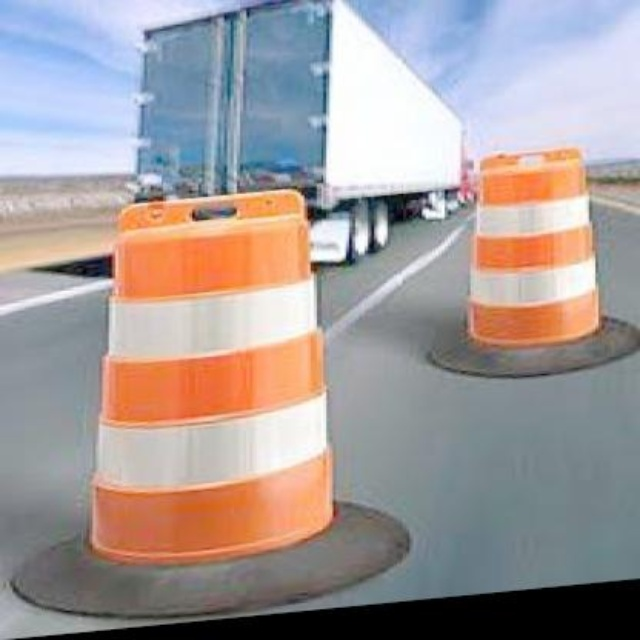obstacle: (99, 193, 342, 573), (470, 155, 611, 354)
